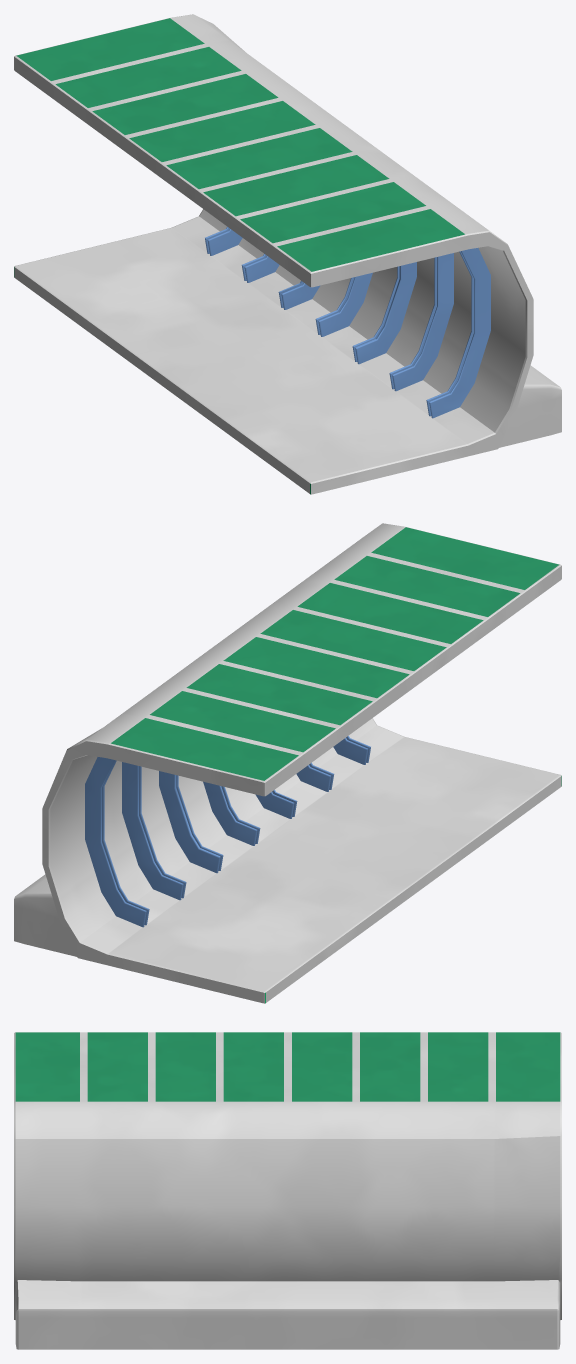
File: Bicycle_T.fbx
3 renders of one model, top to bottom at view 1: azimuth 30°, elevation 25°; view 2: azimuth 150°, elevation 25°; view 3: azimuth 270°, elevation 25°, orthographic. The views are drawn at different scales.
Parts seen in each view (by area): view 1: Bicycle_T; view 2: Bicycle_T; view 3: Bicycle_T.
Part boxes in pixels (bbox=[...]): Bicycle_T: bbox=[14, 14, 561, 494]; Bicycle_T: bbox=[14, 523, 561, 1003]; Bicycle_T: bbox=[14, 1032, 561, 1349].
Bounding box in the file's own units: 14.51 × 12.14 × 29.51.
